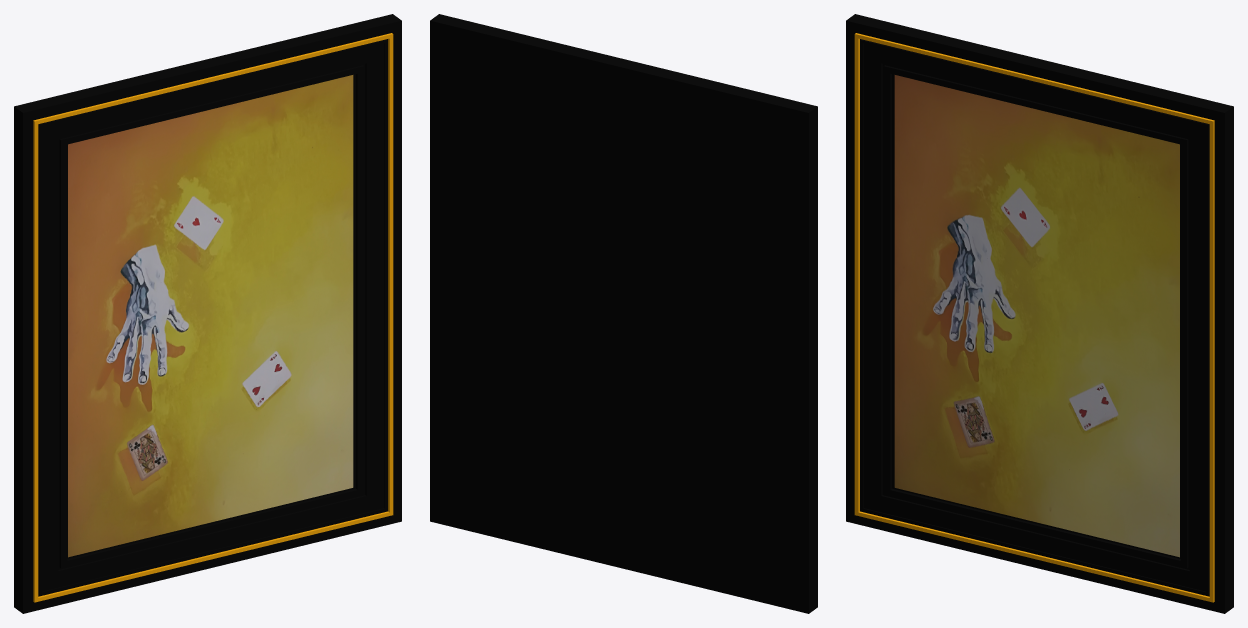
Rendered from oilPainting.glb.
3 views of the same model, side by side, from view 1: azimuth 30°, elevation 25°; view 2: azimuth 150°, elevation 25°; view 3: azimuth 330°, elevation 25° (orthographic).
Parts seen in each view (by area): view 1: Painting; view 2: Painting; view 3: Painting.
Boxes of the visible parts, bbox=[...] form: Painting: bbox=[14, 14, 401, 613]; Painting: bbox=[430, 14, 817, 613]; Painting: bbox=[846, 14, 1233, 613].
Size of the model in its own units: 1.32 by 1.66 by 0.063.
3 materials, 1 textured.
